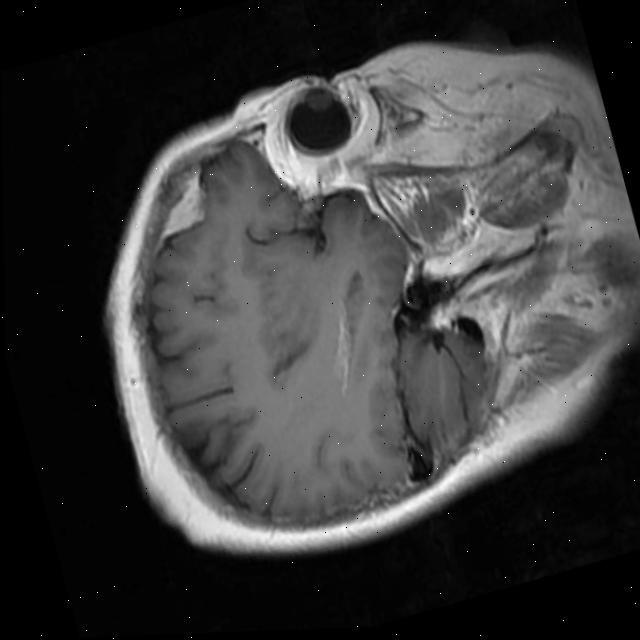Meningioma: (153, 168, 213, 235)
